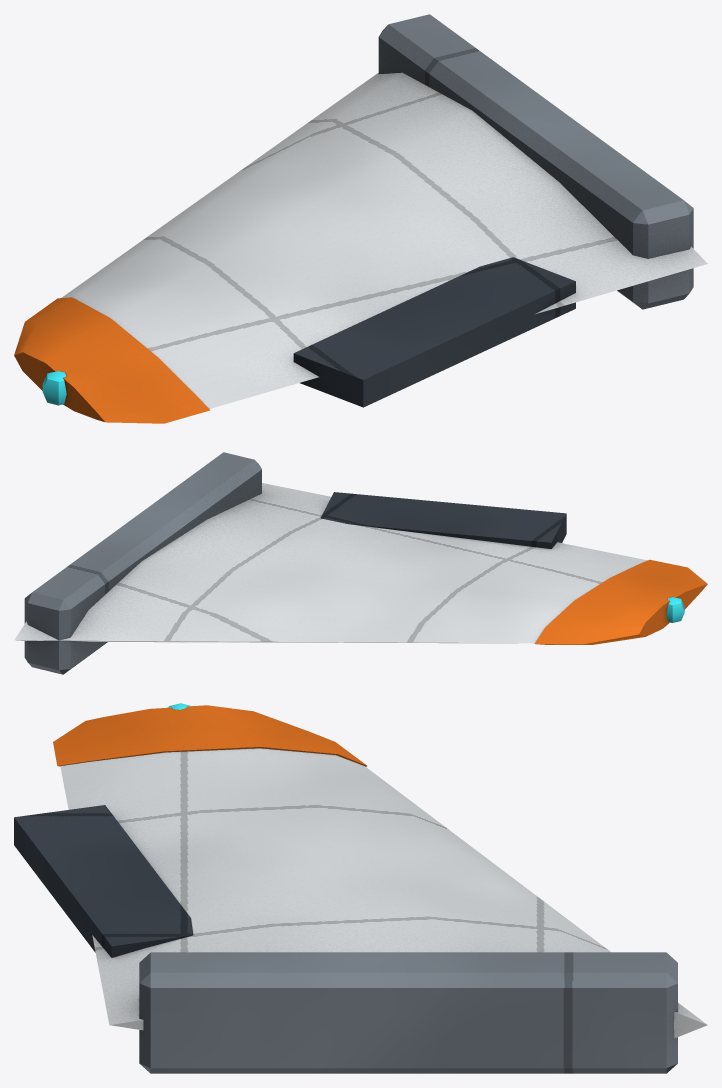
The model's file is ala_pequena.fbx.
3 renders of one model, top to bottom at view 1: azimuth 30°, elevation 25°; view 2: azimuth 150°, elevation 25°; view 3: azimuth 270°, elevation 25°, orthographic. The views are drawn at different scales.
Parts seen in each view (by area): view 1: ala_pequena, ala_pequena_neon; view 2: ala_pequena, ala_pequena_neon; view 3: ala_pequena.
Part boxes in pixels (x1=…): ala_pequena: x1=14, y1=14, x2=707, y2=423; ala_pequena_neon: x1=42, y1=371, x2=66, y2=405; ala_pequena: x1=14, y1=452, x2=707, y2=674; ala_pequena_neon: x1=666, y1=597, x2=684, y2=622; ala_pequena: x1=14, y1=705, x2=707, y2=1073.
Bounding box in the file's own units: 5.23 × 0.78 × 4.87.
2 materials, 2 textured.
